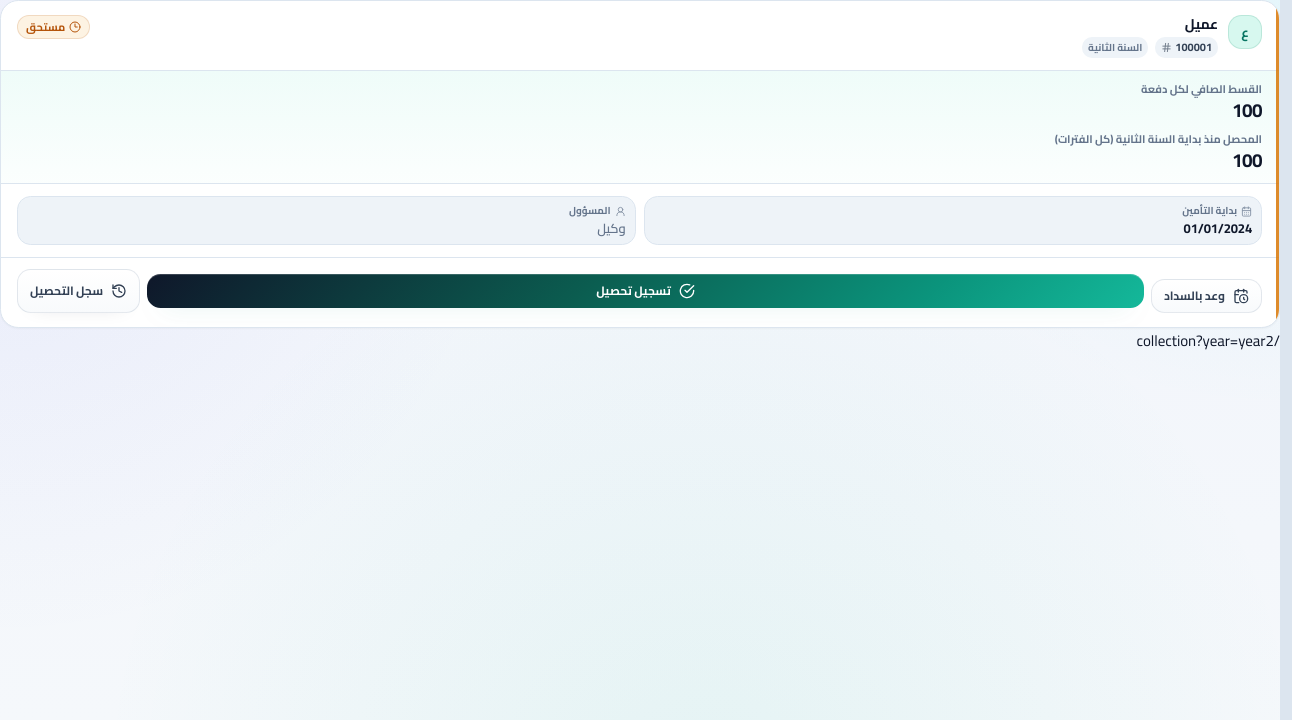
Test case: offers the same تفاصيل الوثيقة 100001 destination from renewal collection
Click the link named "تفاصيل الوثيقة 100001" at point(1187, 47), box [1155,37,1218,58]
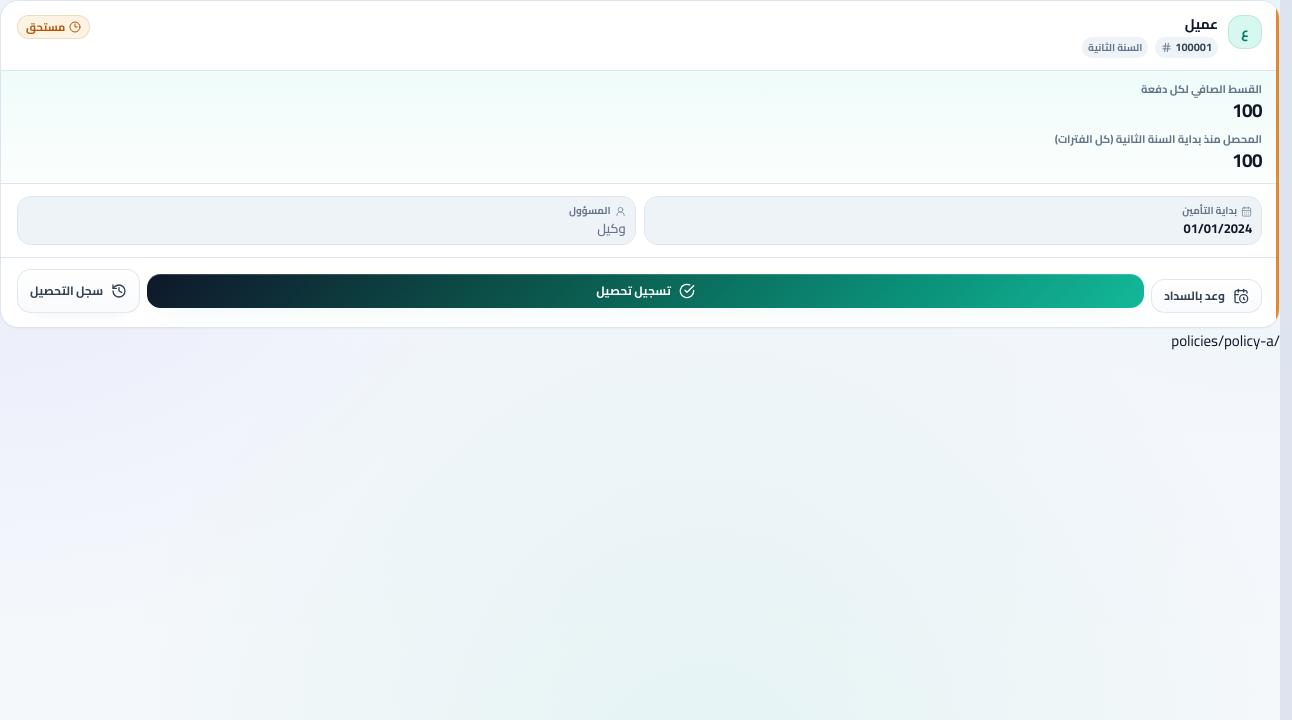
Expected: the text named "current route" reads "/policies/policy-a", [1171,326,1280,355]
